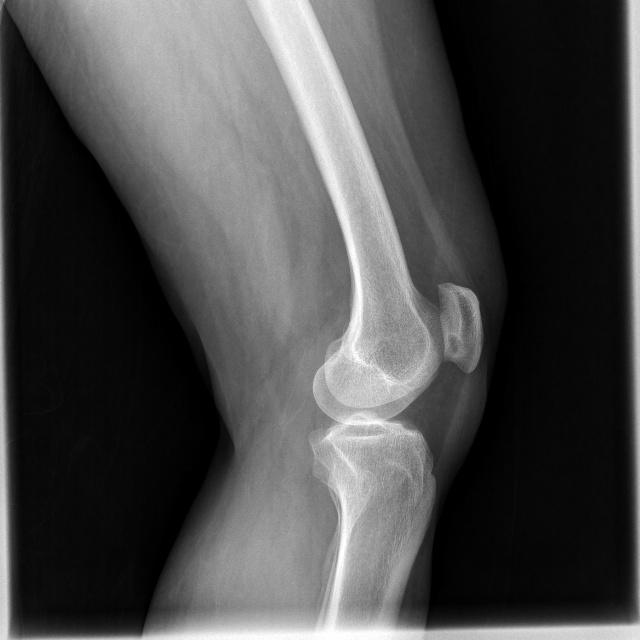Knee: (307, 279, 484, 475)
